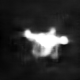plane: (20, 25, 72, 60)
